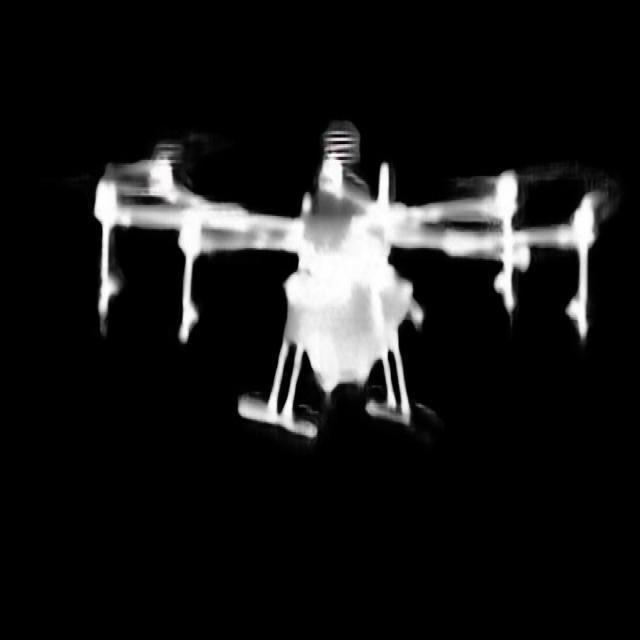drone: (56, 81, 626, 491)
